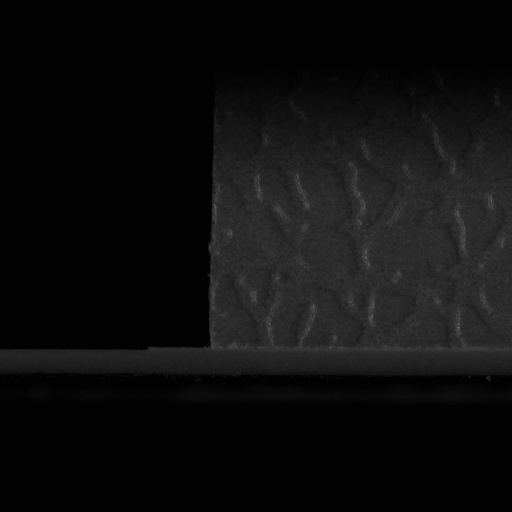changdai: (3, 346, 213, 376)
